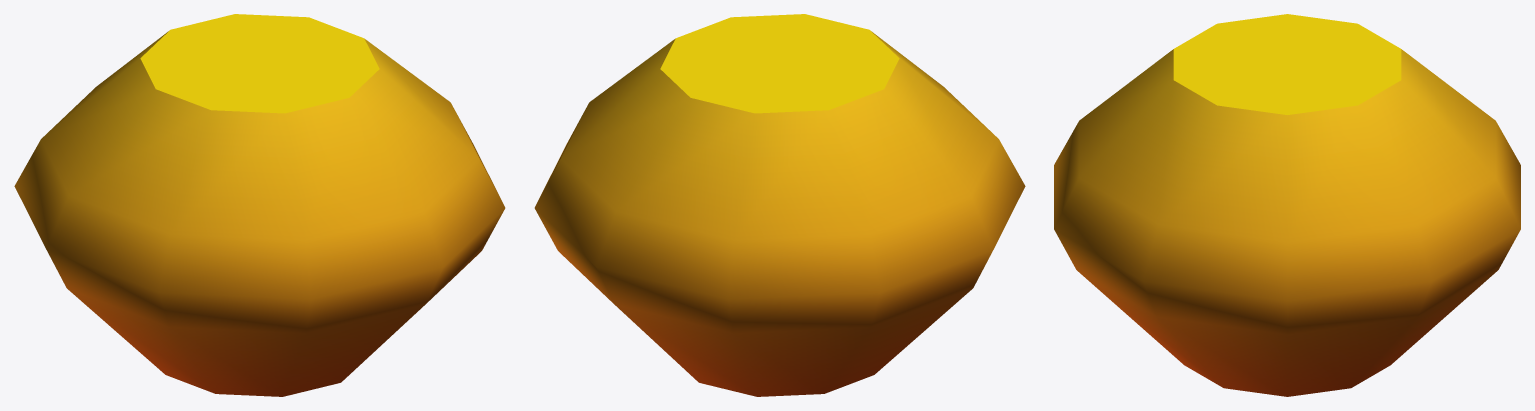
File: Potion_C_M_Liquid.fbx
3 renders of one model, left to right at view 1: azimuth 30°, elevation 25°; view 2: azimuth 150°, elevation 25°; view 3: azimuth 270°, elevation 25°, orthographic.
Parts seen in each view (by area): view 1: Potion_C_M_Liquid; view 2: Potion_C_M_Liquid; view 3: Potion_C_M_Liquid.
Part boxes in pixels (x1,y1,x2,y2): Potion_C_M_Liquid: (14,14,505,396); Potion_C_M_Liquid: (534,14,1025,396); Potion_C_M_Liquid: (1054,14,1520,396).
Bounding box in the file's own units: 55.26 × 35.59 × 52.56.
Materials: 1 (1 with a texture image).
